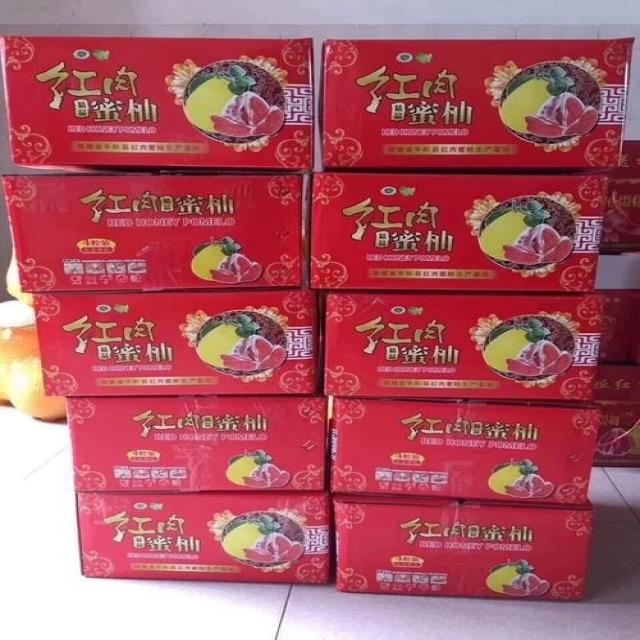Carton: (35, 173, 603, 398), (0, 36, 310, 291), (323, 39, 636, 165), (326, 293, 595, 397), (332, 399, 594, 499), (335, 497, 584, 600), (69, 493, 332, 581)
